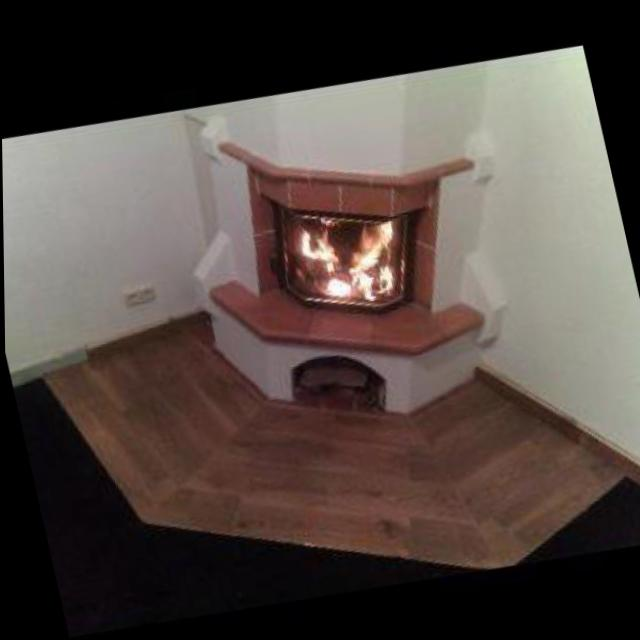Fire: (296, 195, 409, 303)
